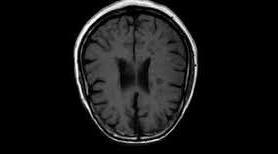Normal_Brain: (1, 1, 228, 154)
